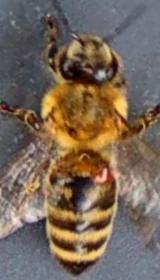varroa_mite: (86, 160, 116, 190)
